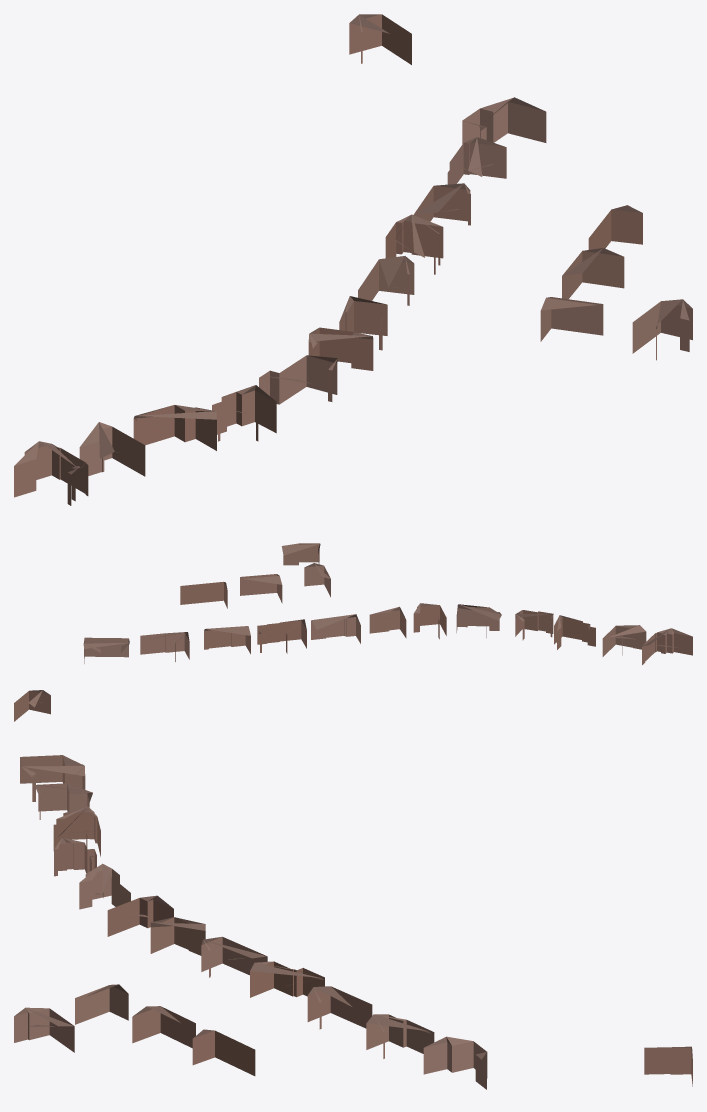
Rendered from c_1643_17837_buildings_residential.glb.
The picture shows the model from 3 angles, top to bottom: view 1: azimuth 30°, elevation 25°; view 2: azimuth 150°, elevation 25°; view 3: azimuth 270°, elevation 25°; orthographic projection. The views are drawn at different scales.
Parts seen in each view (by area): view 1: geometry_0; view 2: geometry_0; view 3: geometry_0.
Part boxes in pixels (box(x1,y1,x2,y2)): geometry_0: box(14, 14, 692, 505); geometry_0: box(14, 543, 692, 721); geometry_0: box(14, 755, 692, 1089).
Size of the model in its own units: 227 by 10.68 by 206.
